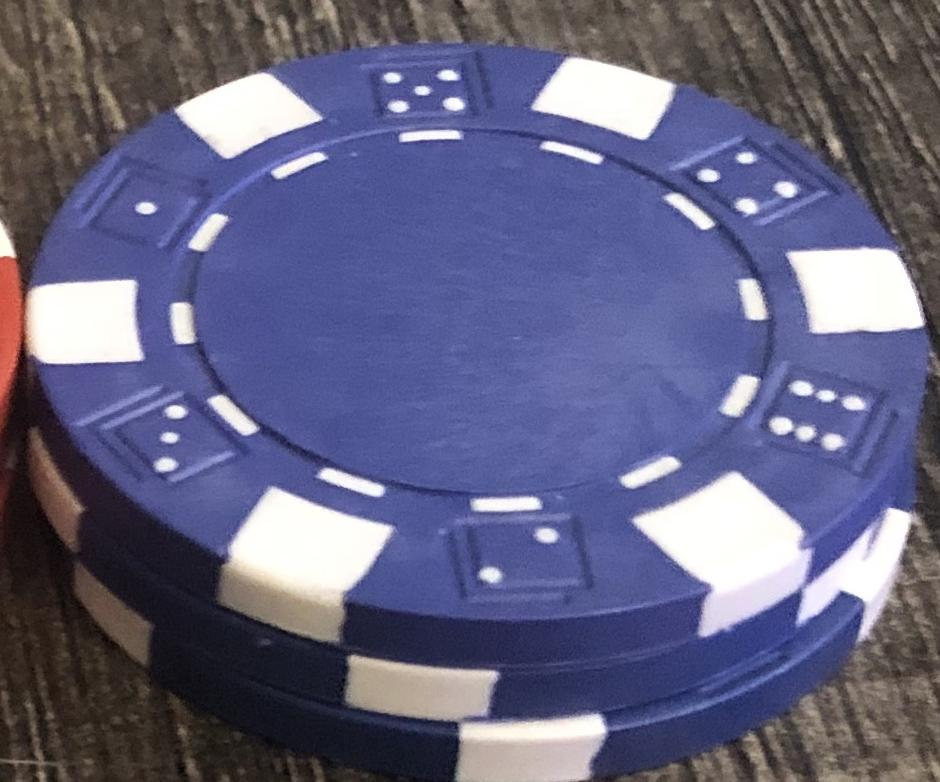Chip: (1, 1, 940, 782)
